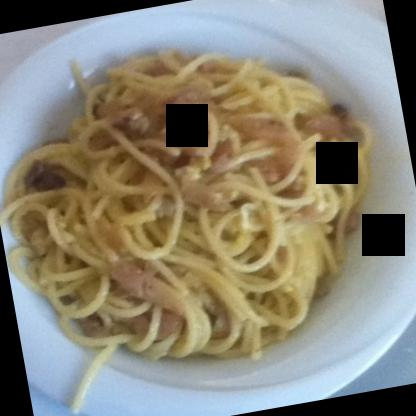pasta: (0, 22, 399, 396)
